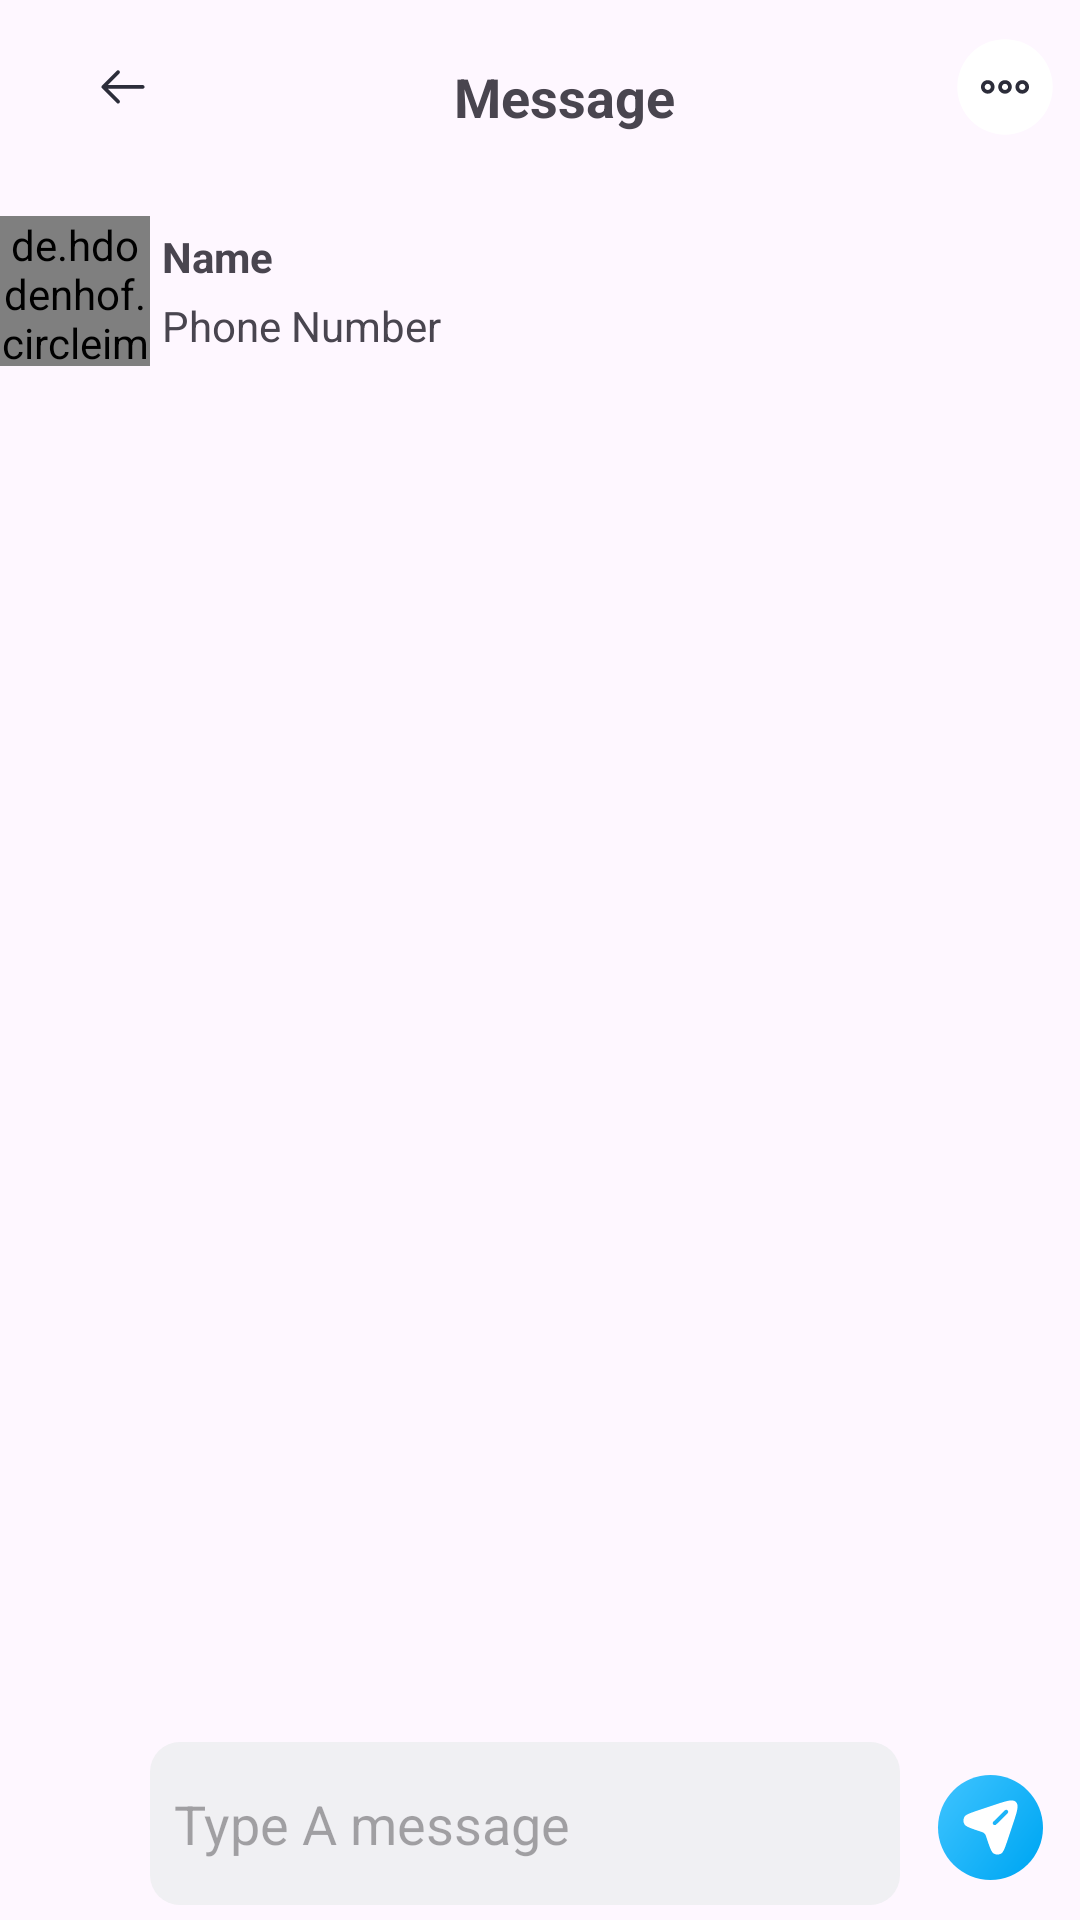

Named icons in this screenshot (1080w x 1920h) and their centers, [x,y]:
back arrow: [123,87]
dots: [1005,87]
message sender: [990,1827]
